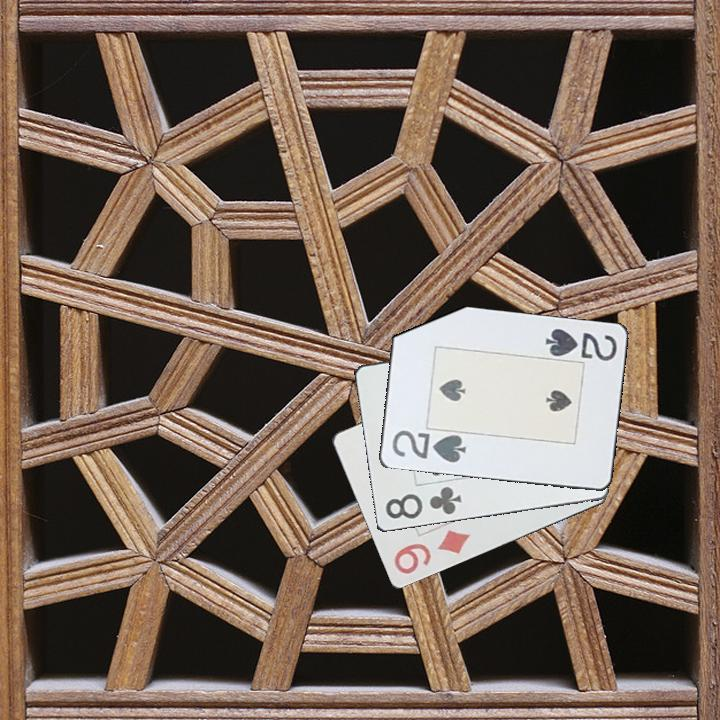2s: (388, 427, 469, 466), (541, 325, 620, 364)
8c: (382, 483, 464, 522)
9d: (390, 527, 474, 577)
